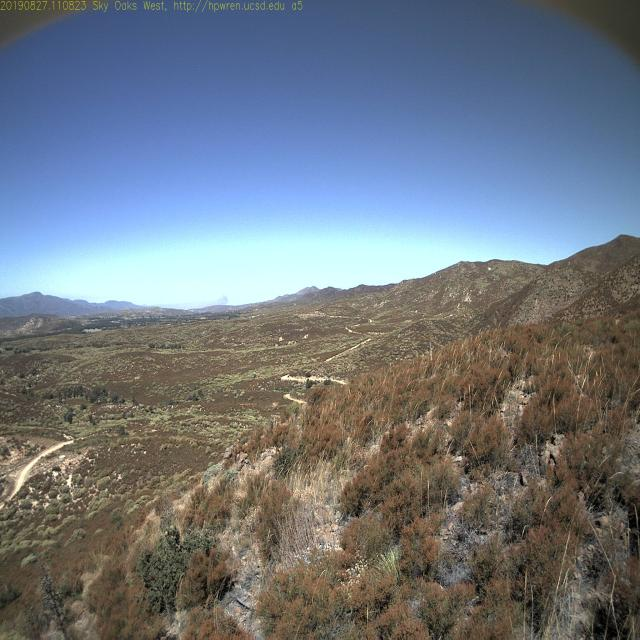smoke: (217, 296, 230, 306)
